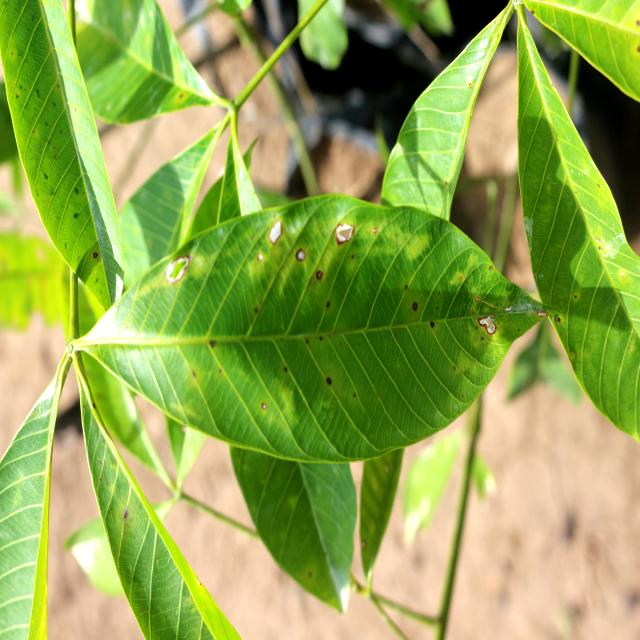Colletotrichum: (296, 248, 306, 262), (316, 270, 323, 279), (326, 377, 332, 384), (413, 302, 417, 311), (262, 402, 266, 410), (476, 296, 479, 302), (490, 266, 492, 271)
